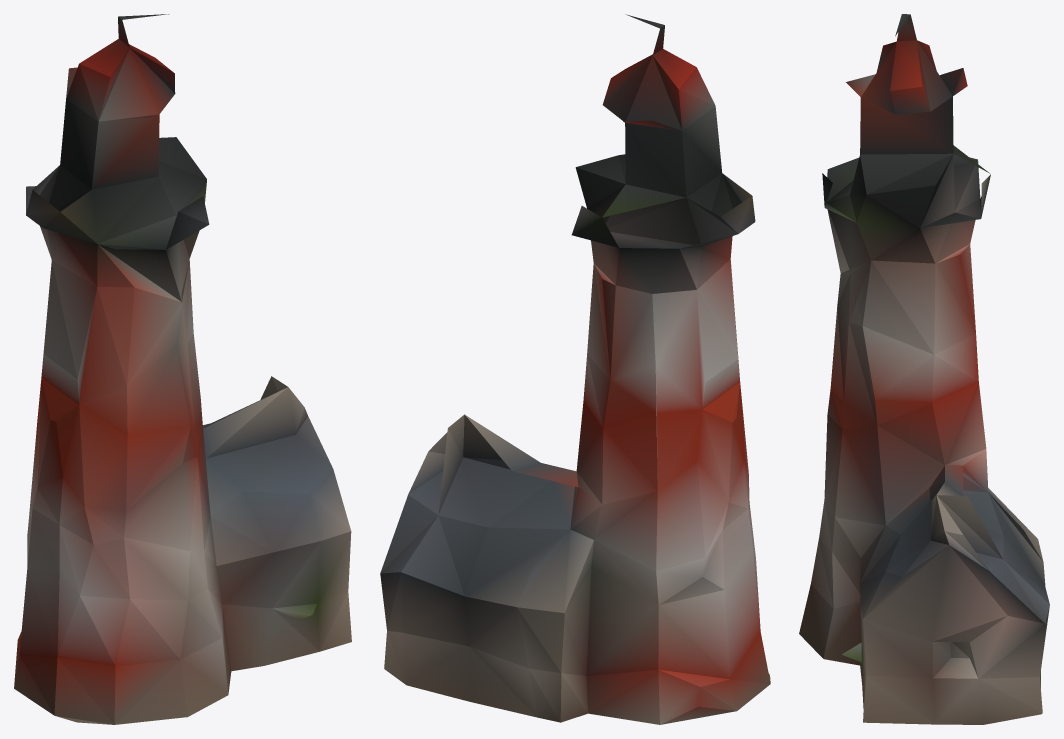
The model's file is lighthouse.glb.
3 renders of one model, left to right at view 1: azimuth 30°, elevation 25°; view 2: azimuth 150°, elevation 25°; view 3: azimuth 270°, elevation 25°, orthographic. The views are drawn at different scales.
Visible parts, largest first — view 1: lighthouse-far; view 2: lighthouse-far; view 3: lighthouse-far.
Boxes of the visible parts, x1,y1,x2,y2 form: lighthouse-far: [14, 14, 351, 724]; lighthouse-far: [380, 14, 770, 724]; lighthouse-far: [799, 14, 1049, 724].
Size of the model in its own units: 11.2 by 23.3 by 8.58.
